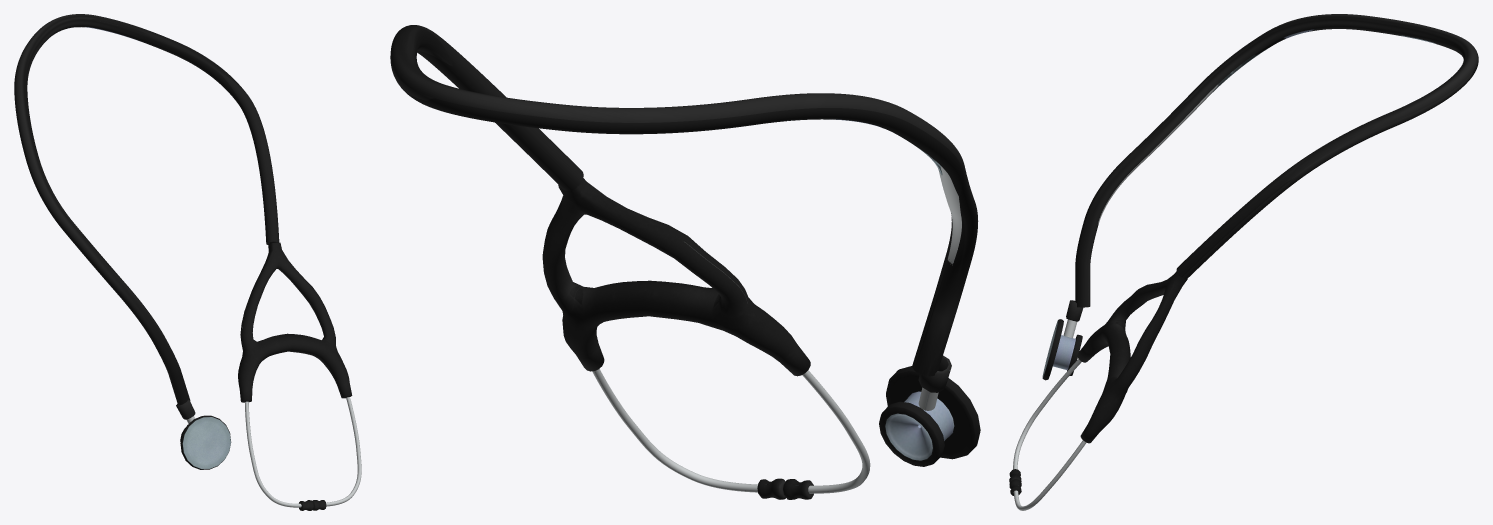
File: stethoscope.glb
3 renders of one model, left to right at view 1: azimuth 30°, elevation 25°; view 2: azimuth 150°, elevation 25°; view 3: azimuth 270°, elevation 25°, orthographic. The views are drawn at different scales.
Visible parts, largest first — view 1: Sweep_2, Right_Side, Left_Side; view 2: Sweep_2, Right_Side, Left_Side; view 3: Sweep_2, Right_Side, Left_Side.
Part boxes in pixels (<box>): Sweep_2: <box>14,14,279,405</box>; Right_Side: <box>238,242,361,510</box>; Left_Side: <box>176,399,231,469</box>; Sweep_2: <box>390,25,978,376</box>; Right_Side: <box>542,178,870,499</box>; Left_Side: <box>879,355,980,466</box>; Sweep_2: <box>1075,14,1478,307</box>; Right_Side: <box>1009,271,1187,510</box>; Left_Side: <box>1042,300,1083,380</box>.
Bounding box in the file's own units: 2.2 × 3.06 × 3.15.
2 materials, 2 textured.
